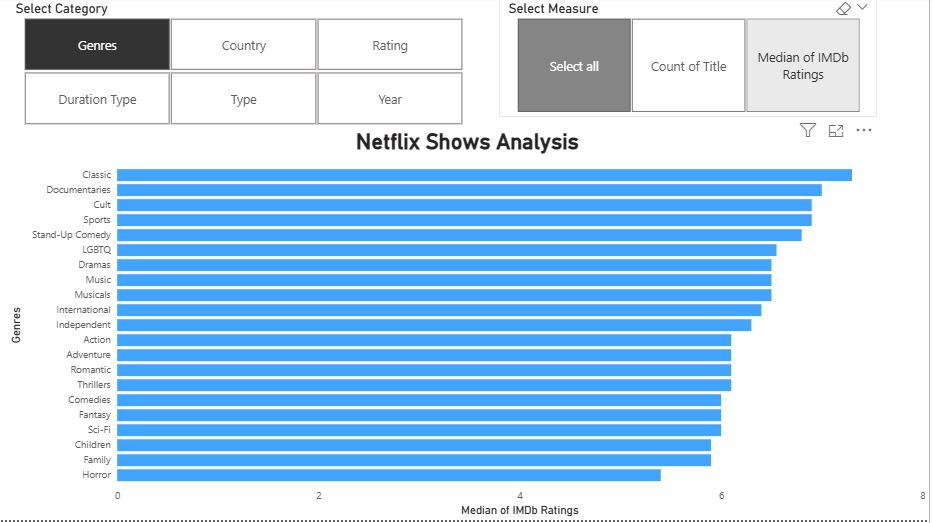

The page's visual inventory and layout, read from the dashboard file:
{"tool":"powerbi","page":{"name":"Dashboard 1","canvas":[1280,720],"ordinal":0},"visuals":[{"type":"slicer","fields":{"Values":["Select Category.Select Category"]},"box":[9.6,0,652.4,181.7],"z":0},{"type":"clusteredBarChart","title":"Netflix Shows Analysis","fields":{"Category":["netflix_listed_in_dim.listed_in"],"Y":["_Measures.Count of Title"]},"box":[9.6,181.7,1270.4,538.2],"z":1000},{"type":"slicer","fields":{"Values":["Select Measure.Select Measure"]},"box":[688.2,0,520.3,165.2],"z":2000}]}

Visuals, with their boxes on the page's 1280x720 design canvas (x1, y1, x2, y2). These are canvas units, not pixel positions in the 933x523 screenshot, which may show the page scaled, cropped or inside an application window:
slicer - Select Category.Select Category: x1=10, y1=0, x2=662, y2=182
"Netflix Shows Analysis" clusteredBarChart: x1=10, y1=182, x2=1280, y2=720
slicer - Select Measure.Select Measure: x1=688, y1=0, x2=1208, y2=165
